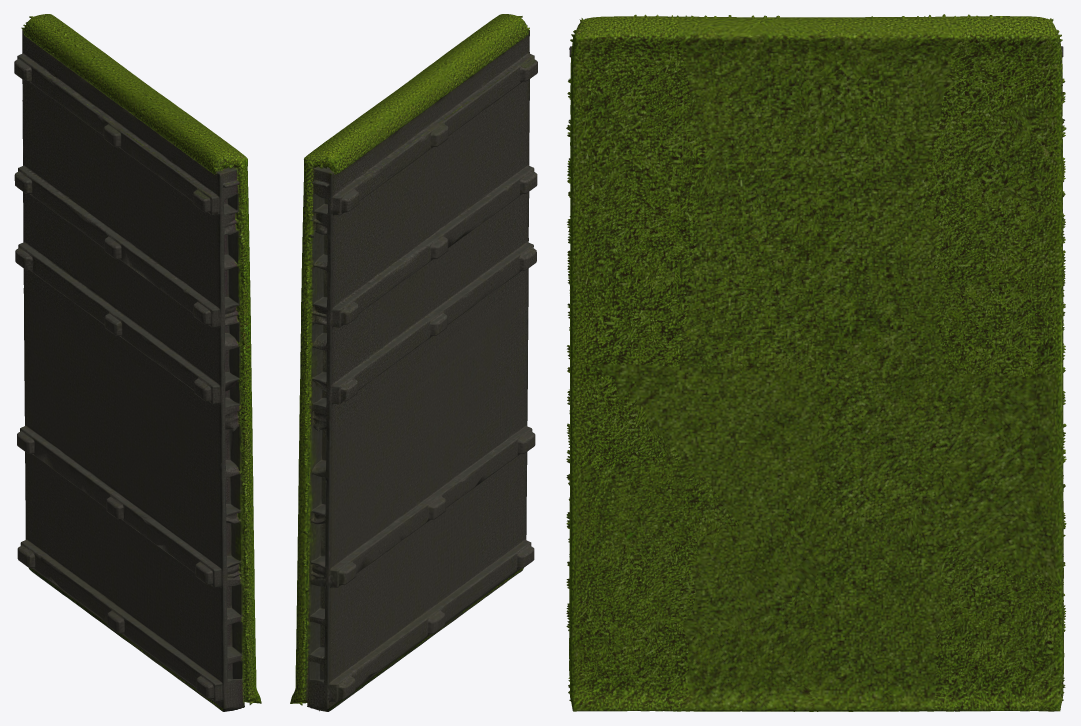
The model's file is panel_turf.glb.
3 views of the same model, side by side, from view 1: azimuth 30°, elevation 25°; view 2: azimuth 150°, elevation 25°; view 3: azimuth 270°, elevation 25° (orthographic). The views are drawn at different scales.
Parts seen in each view (by area): view 1: tripo_node_8234d077-fc7a-4c50-81f5-bc581e07ed67; view 2: tripo_node_8234d077-fc7a-4c50-81f5-bc581e07ed67; view 3: tripo_node_8234d077-fc7a-4c50-81f5-bc581e07ed67.
Part boxes in pixels (x1,y1,x2,y2): tripo_node_8234d077-fc7a-4c50-81f5-bc581e07ed67: (14,14,261,711); tripo_node_8234d077-fc7a-4c50-81f5-bc581e07ed67: (290,14,537,711); tripo_node_8234d077-fc7a-4c50-81f5-bc581e07ed67: (566,14,1066,711).
Bounding box in the file's own units: 0.0911 × 0.9 × 0.5981.
Materials: 1 (1 with a texture image).
